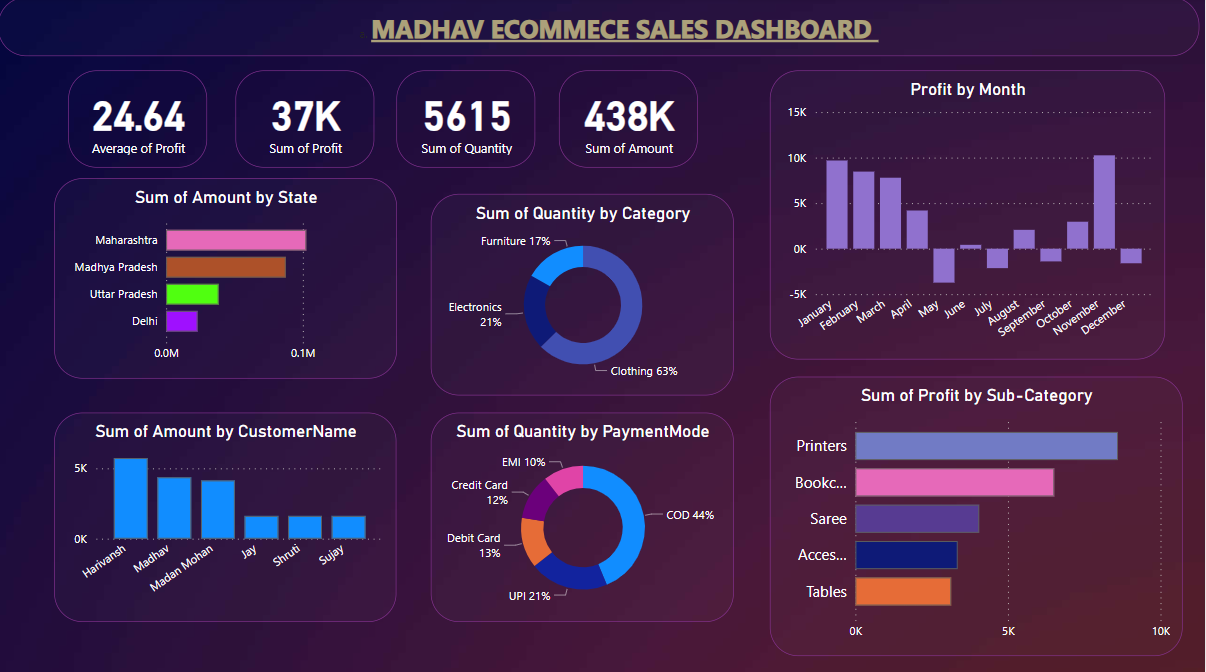

This screenshot's page, from the dashboard's own definition file:
{"tool":"powerbi","page":{"name":"Page 1","canvas":[1280,720],"ordinal":0},"visuals":[{"type":"textbox","box":[0,0,1274.5,63],"z":0},{"type":"columnChart","title":" Profit by Month","fields":{"Y":["Details.Profit"],"Category":["Orders.Order Date.Variation.Date Hierarchy.Month"]},"box":[818.7,77.9,419.3,306.6],"z":1000},{"type":"barChart","fields":{"Category":["Details.Sub-Category"],"Y":["Details.Profit"]},"box":[818.8,403.4,437.6,296.5],"z":2000},{"type":"donutChart","fields":{"Category":["Details.Category"],"Y":["Details.Quantity"]},"box":[459.1,208.8,321.5,213.8],"z":2001},{"type":"donutChart","fields":{"Y":["Details.Quantity"],"Category":["Details.PaymentMode"]},"box":[459.1,440.8,321.5,222.1],"z":2002},{"type":"card","fields":{"Values":["Details.Amount"]},"box":[595,77.9,147.5,102.8],"z":2003},{"type":"card","fields":{"Values":["Details.Quantity"]},"box":[422.6,77.9,147.5,102.8],"z":2004},{"type":"card","fields":{"Values":["Details.Profit"]},"box":[251.9,77.9,147.5,102.8],"z":2005},{"type":"card","fields":{"Values":["Details.Profit"]},"box":[74.6,77.9,147.5,102.8],"z":2006},{"type":"barChart","fields":{"Category":["Orders.State"],"Y":["Details.Amount"]},"box":[59.2,191.9,363.5,212.4],"z":2007},{"type":"columnChart","fields":{"Category":["Orders.CustomerName"],"Y":["Details.Amount"]},"box":[59,441,363,222],"z":2008}]}

Visuals, with their boxes in screenshot pixels (x1, y1, x2, y2), scaled from the page's 1280x720 canvas onto the 1206x672 screenshot:
textbox: BBox(0, 0, 1201, 59)
" Profit by Month" columnChart: BBox(771, 73, 1166, 359)
barChart - Details.Sub-Category x Details.Profit: BBox(771, 377, 1184, 653)
donutChart - Details.Category x Details.Quantity: BBox(433, 195, 735, 394)
donutChart - Details.Quantity x Details.PaymentMode: BBox(433, 411, 735, 619)
card - Details.Amount: BBox(561, 73, 700, 169)
card - Details.Quantity: BBox(398, 73, 537, 169)
card - Details.Profit: BBox(237, 73, 376, 169)
card - Details.Profit: BBox(70, 73, 209, 169)
barChart - Orders.State x Details.Amount: BBox(56, 179, 398, 377)
columnChart - Orders.CustomerName x Details.Amount: BBox(56, 412, 398, 619)
